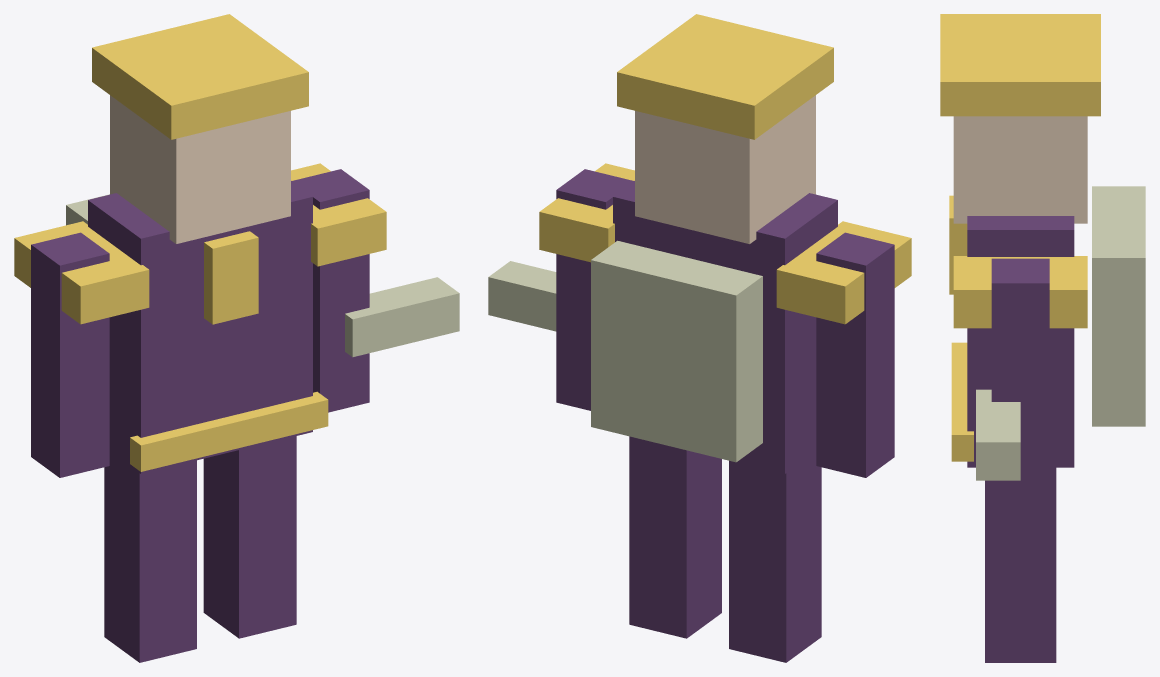
The model's file is 01_ren_trenchmark_herald_from_anomaly.glb.
3 views of the same model, side by side, from view 1: azimuth 30°, elevation 25°; view 2: azimuth 150°, elevation 25°; view 3: azimuth 270°, elevation 25° (orthographic).
Visible parts, largest first — view 1: Ren Trenchmark, Herald from Anomaly; view 2: Ren Trenchmark, Herald from Anomaly; view 3: Ren Trenchmark, Herald from Anomaly.
Boxes of the visible parts, x1=… form: Ren Trenchmark, Herald from Anomaly: x1=14, y1=14, x2=459, y2=662; Ren Trenchmark, Herald from Anomaly: x1=488, y1=14, x2=911, y2=662; Ren Trenchmark, Herald from Anomaly: x1=940, y1=14, x2=1145, y2=662.
Size of the model in its own units: 1.06 by 1.48 by 0.4767.
